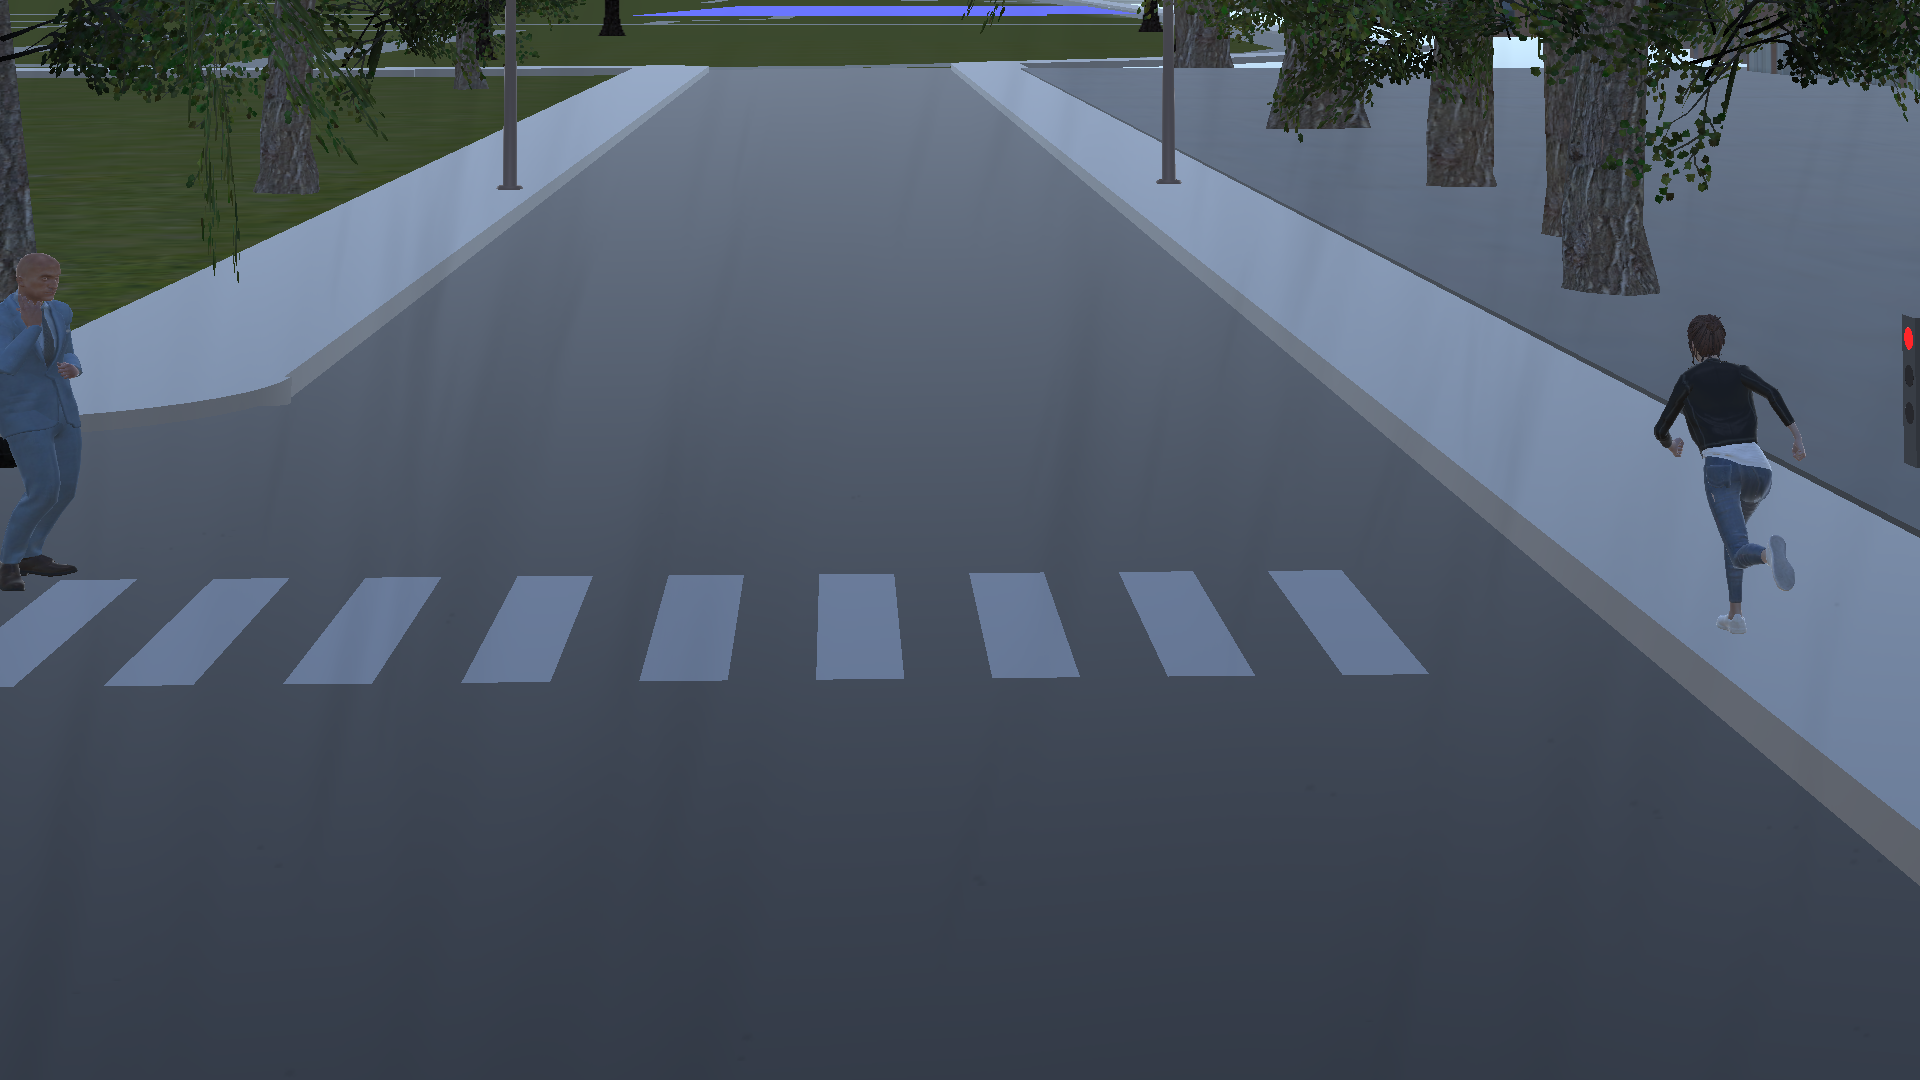pedestrian: (1646, 310, 1815, 651), (1, 246, 102, 616)
